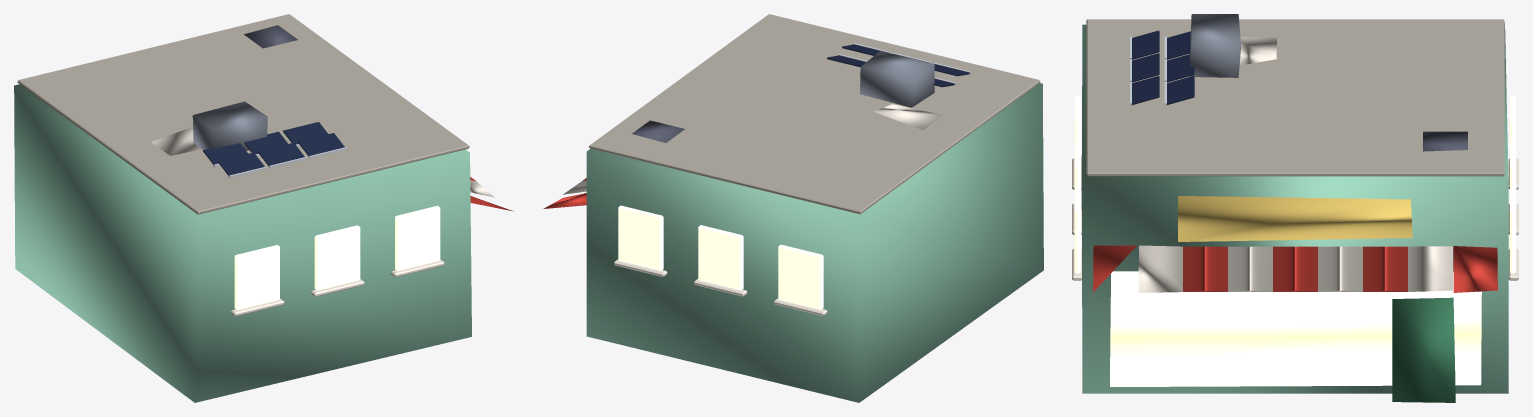
The model's file is shop.glb.
3 views of the same model, side by side, from view 1: azimuth 30°, elevation 25°; view 2: azimuth 150°, elevation 25°; view 3: azimuth 270°, elevation 25° (orthographic). The views are drawn at different scales.
Visible parts, largest first — view 1: shop; view 2: shop; view 3: shop.
Part boxes in pixels (x1,y1,x2,y2): shop: (14, 14, 512, 402); shop: (543, 14, 1043, 402); shop: (1072, 14, 1518, 402).
Size of the model in its own units: 8.09 by 5.41 by 8.34.
Materials: 1 (1 with a texture image).
